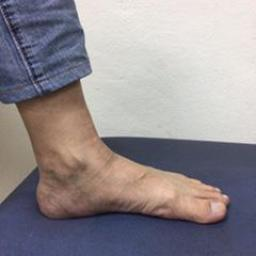Medial View -Left Foot-: (24, 140, 238, 234)
